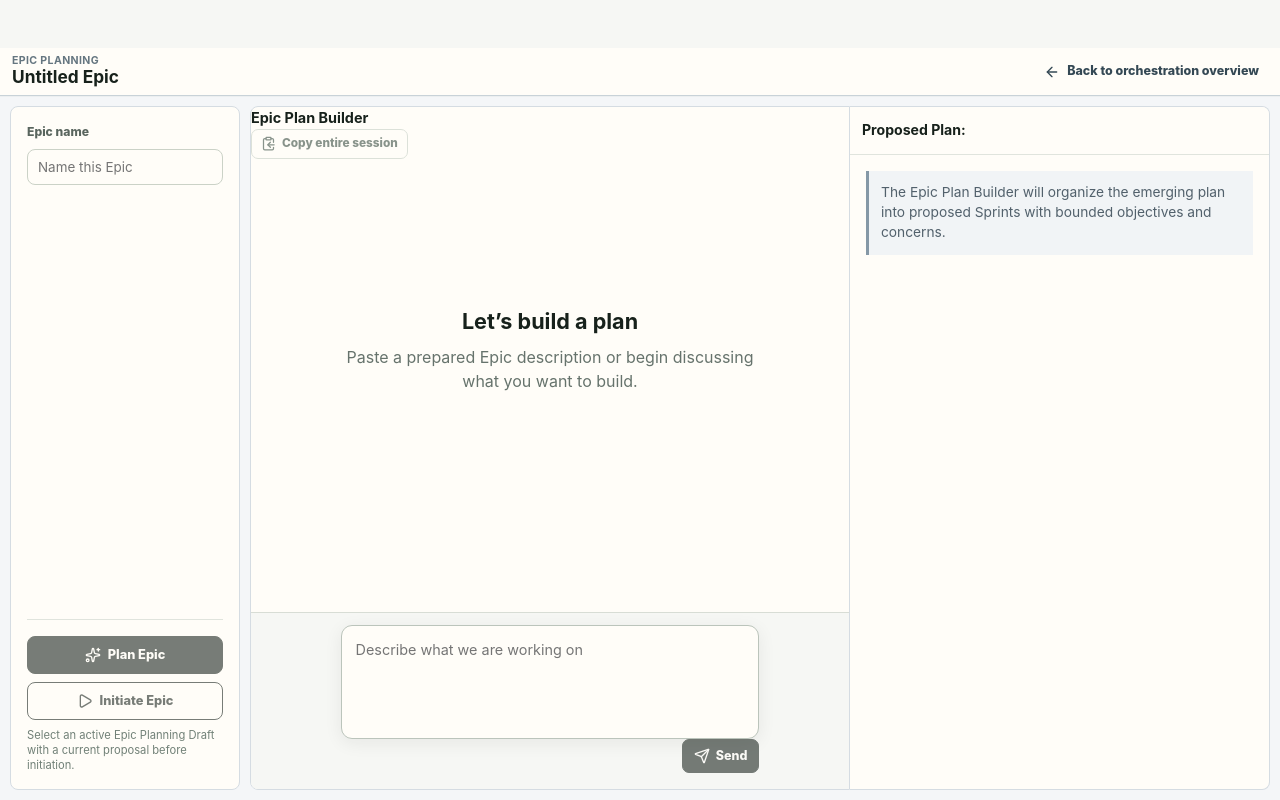
Test: EpicPlanBuilder › refreshes the durable proposal after a normal send reaches the persisted terminal boundary
In the text box labelled "Describe what we are working on": [546, 682] box [349, 633, 743, 731], type "Normal planning discussion"
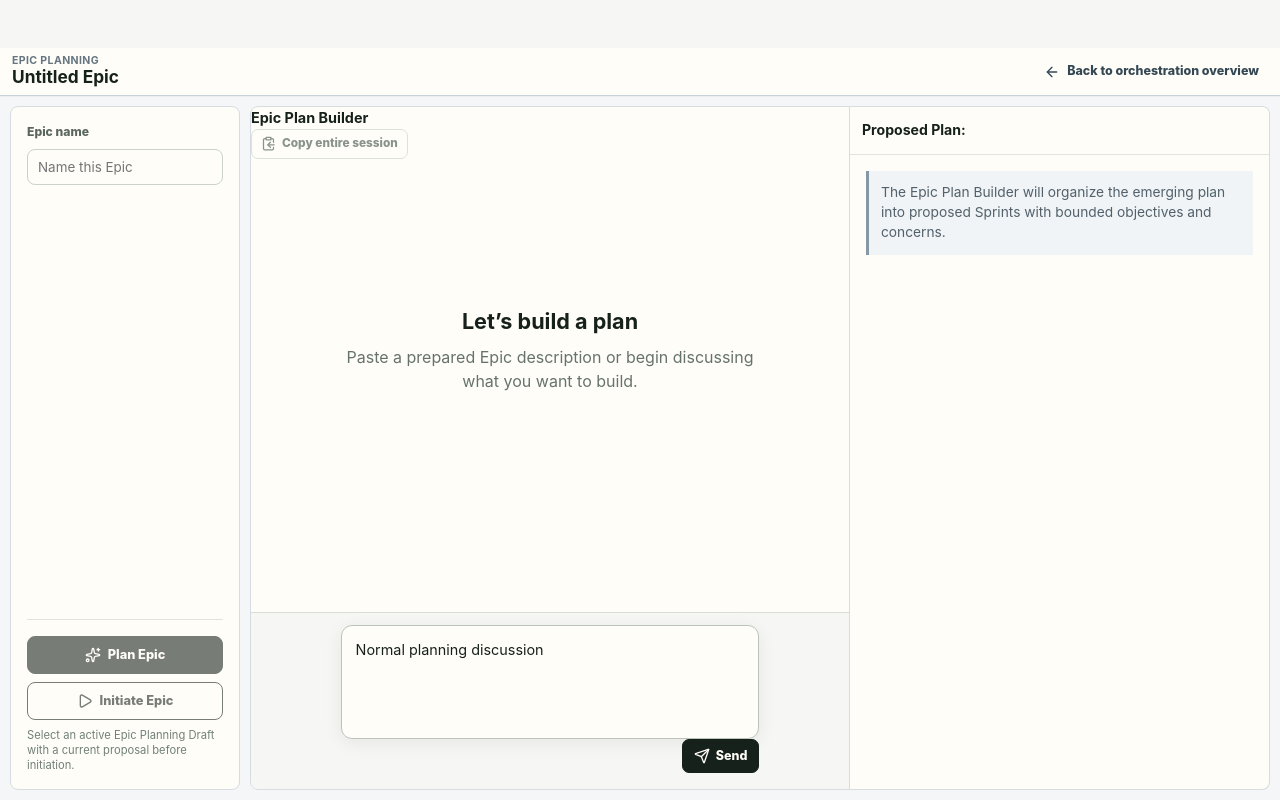
Click the button "Send": [721, 756] box [682, 739, 759, 773]
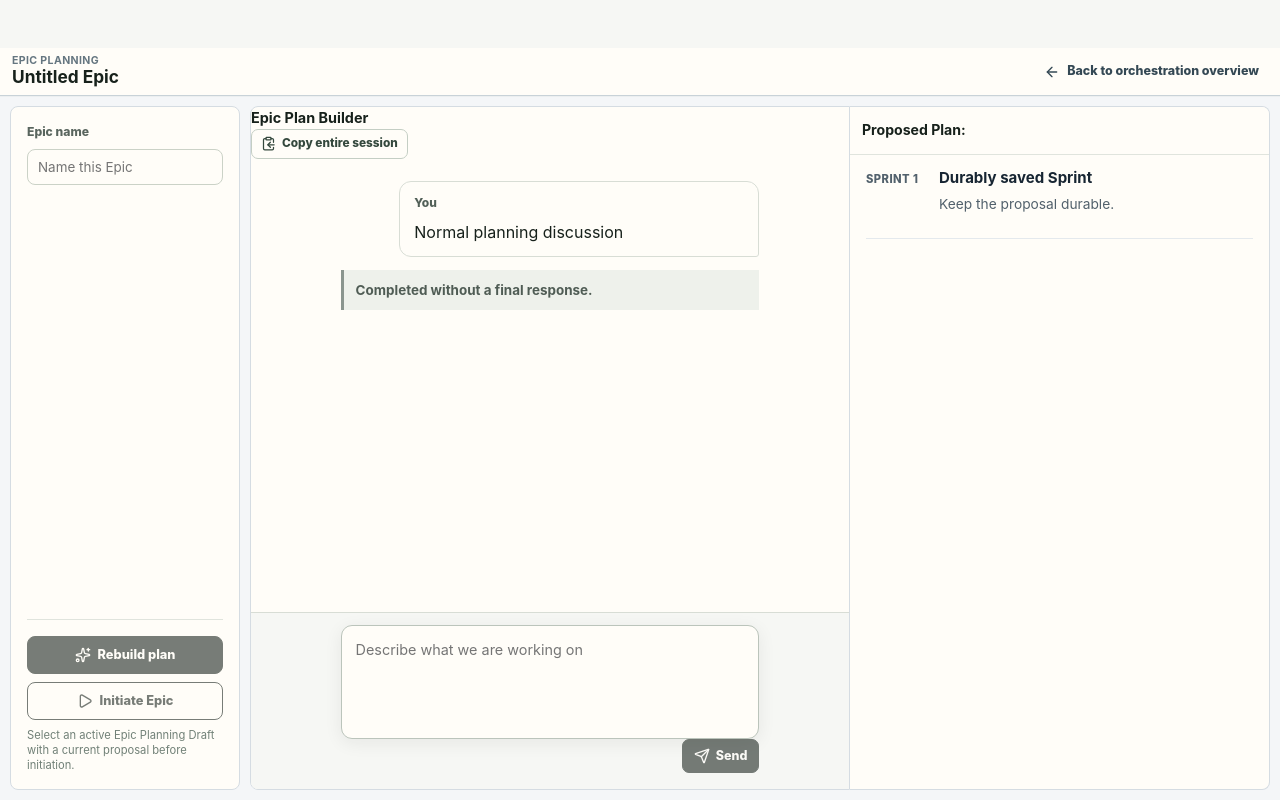
expect the text "Normal planning discussion" is shown: met, box [414, 222, 623, 242]
expect the text "Durably saved Sprint" is shown: met, box [939, 168, 1092, 187]
